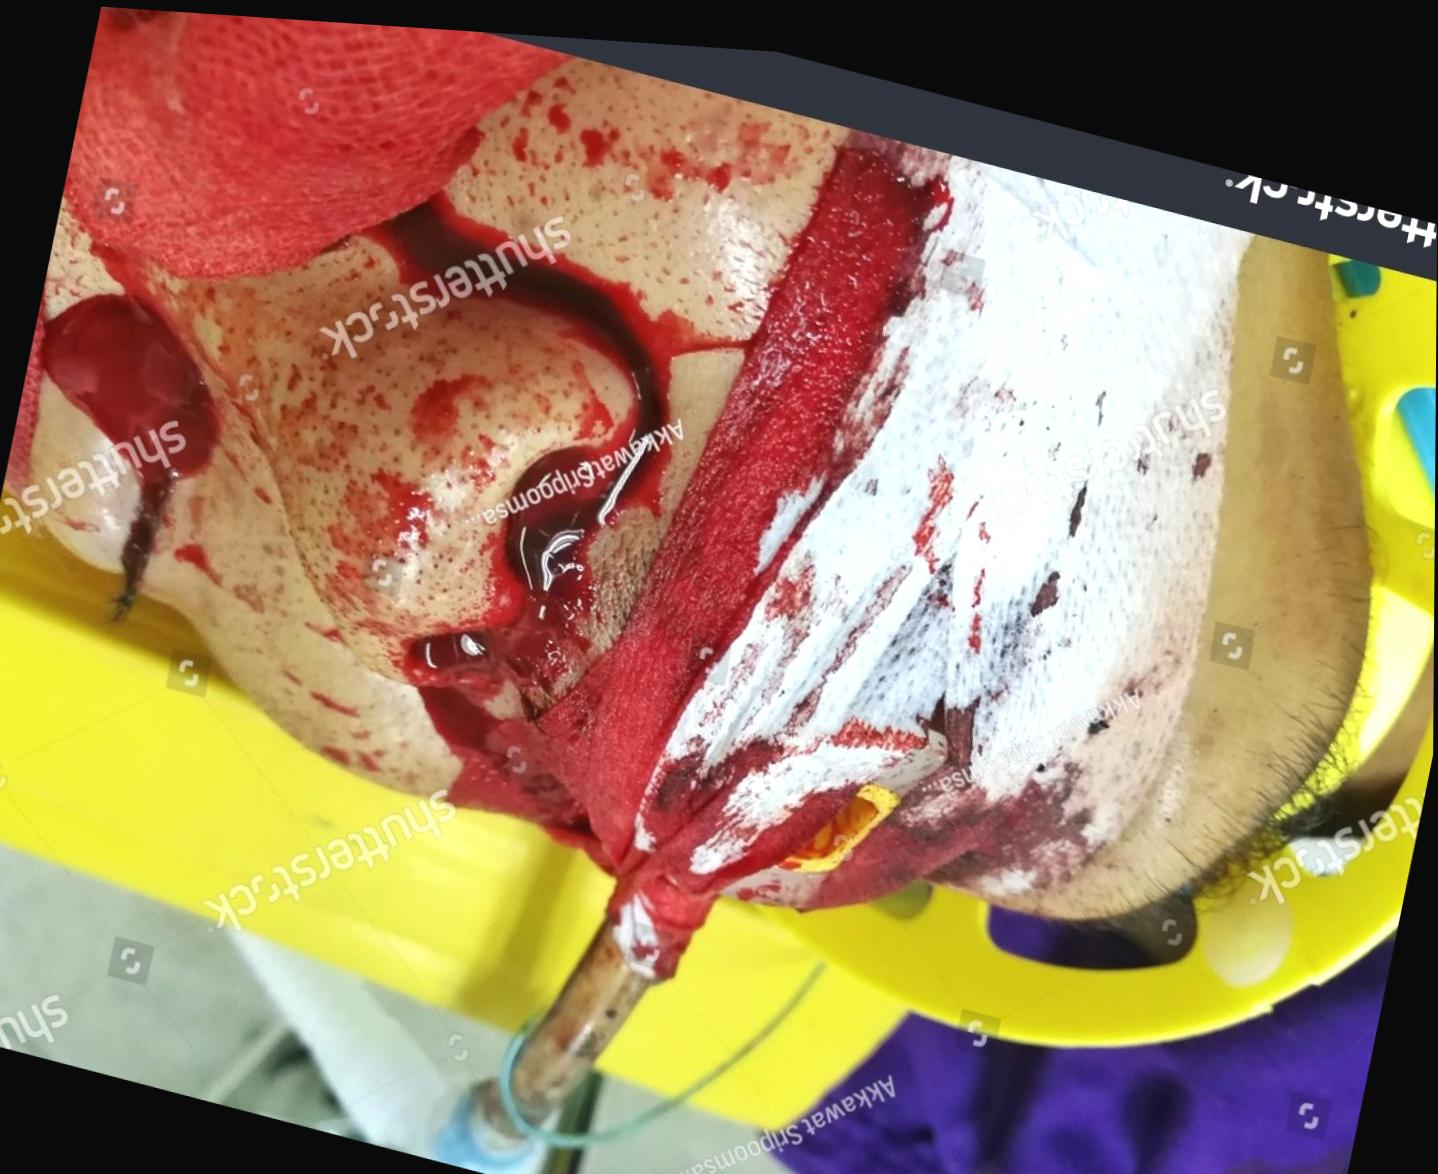Fire: (30, 53, 1104, 972), (146, 228, 638, 678), (61, 5, 559, 275), (4, 284, 216, 615), (173, 541, 219, 582)
